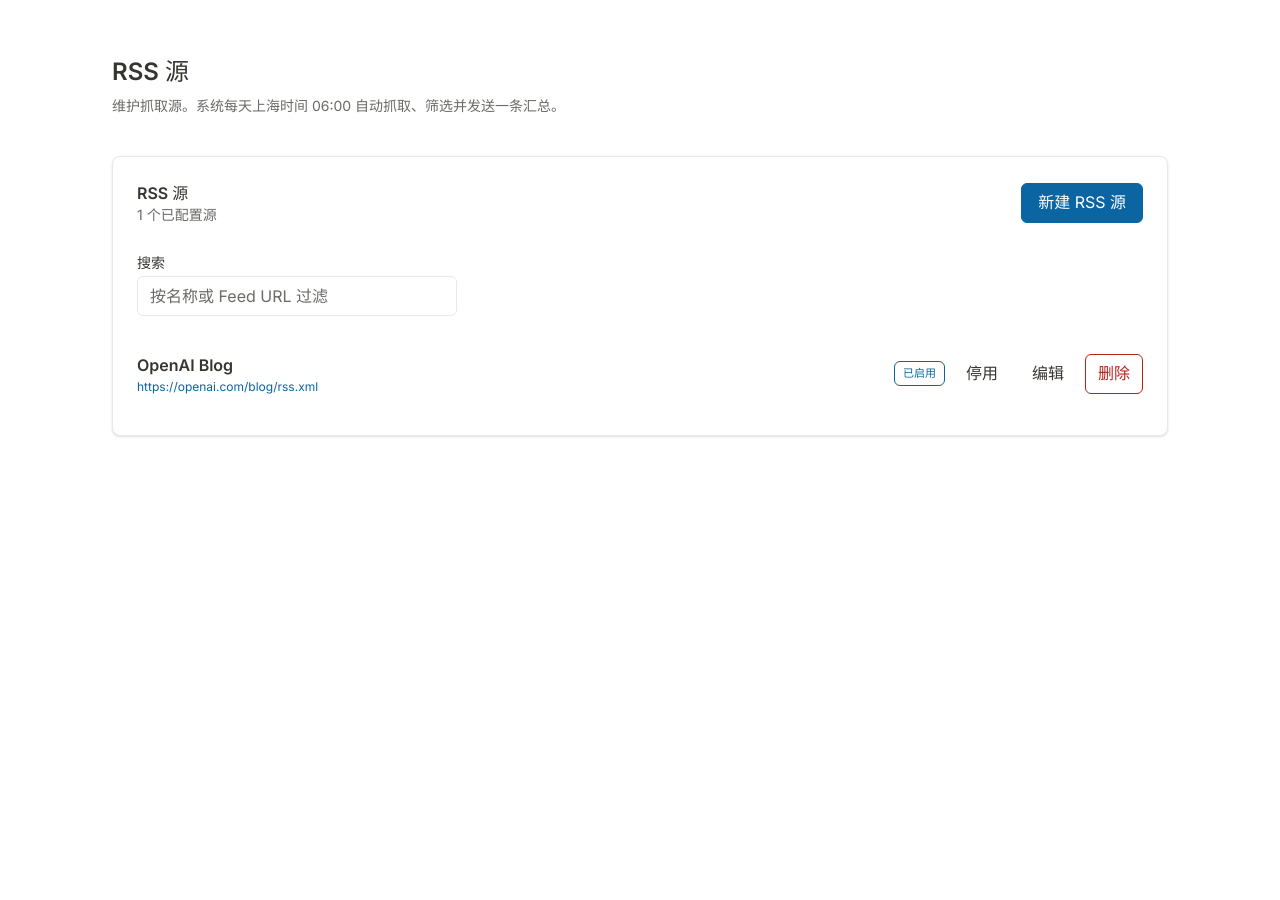
it: RssSourcesPage › edits an RSS source through the drawer
Click the button with aria-label "编辑 OpenAI Blog" at [1048, 374], box x1=1019 y1=354 x2=1077 y2=394
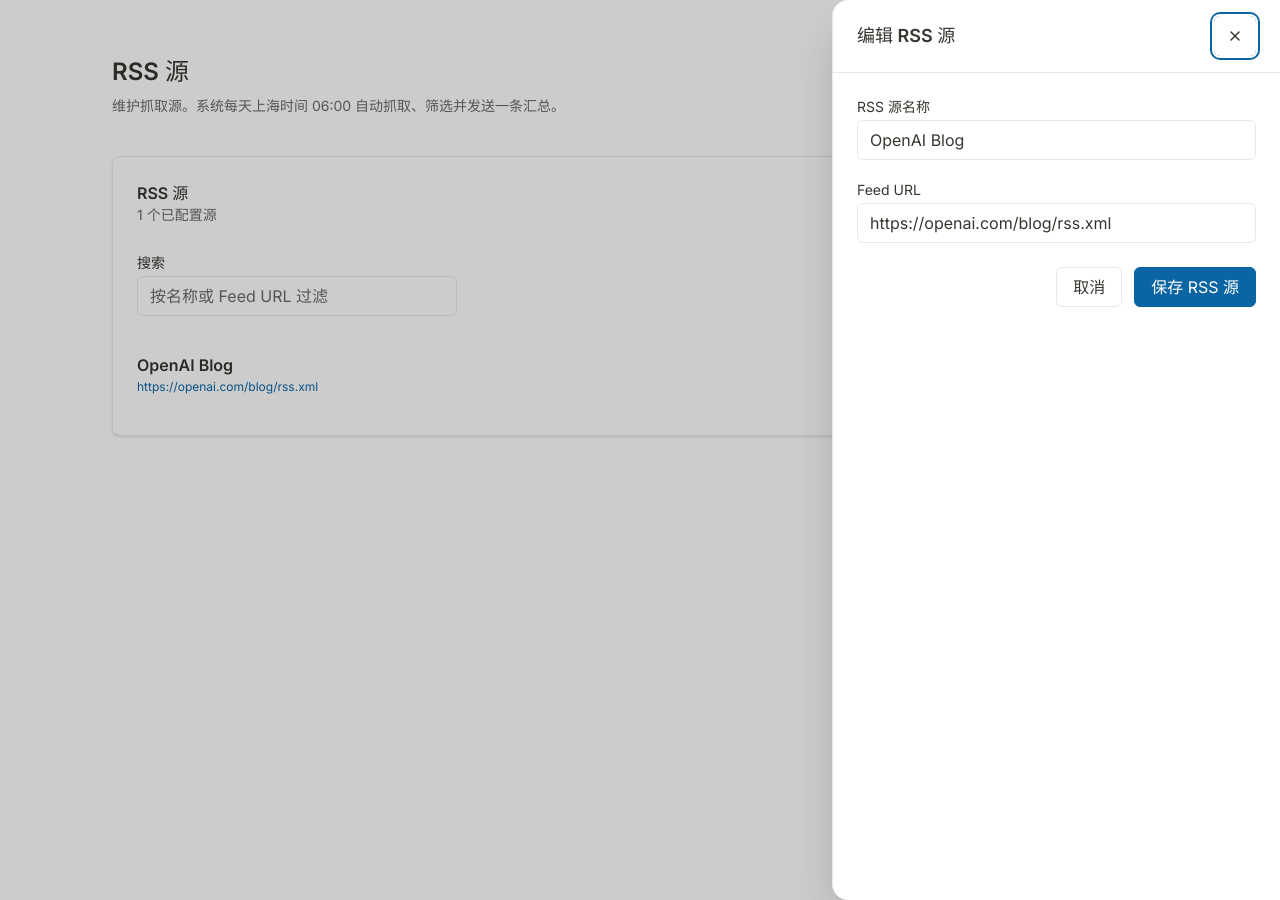
Now the field labelled "RSS 源名称" holds "OpenAI Blog"
Now the field labelled "Feed URL" holds "https://openai.com/blog/rss.xml", box x1=857 y1=203 x2=1256 y2=243
Replace the text in the field labelled "RSS 源名称" with "OpenAI News" at [1056, 140], box x1=857 y1=120 x2=1256 y2=160
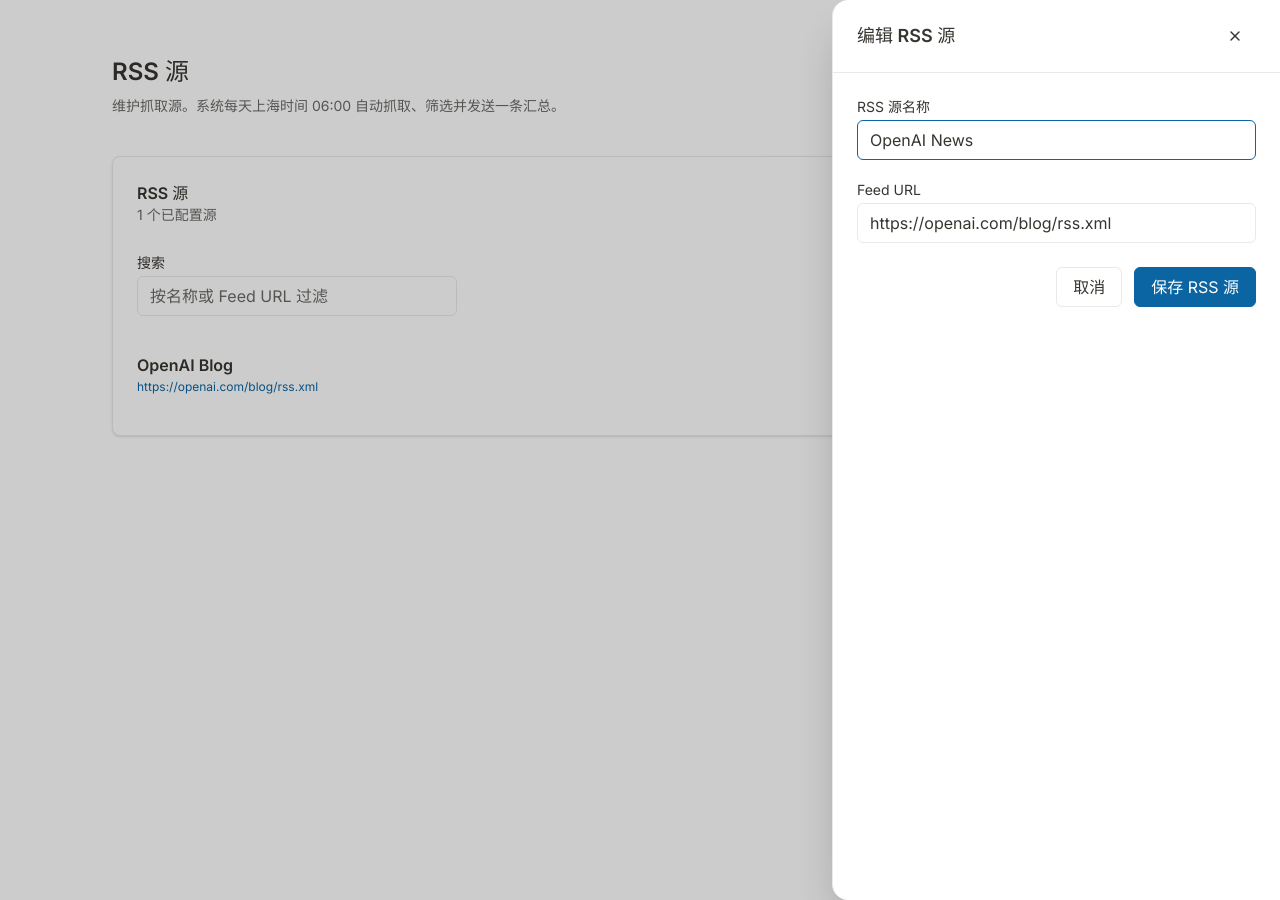
Click the button "保存 RSS 源" at [1195, 287], box x1=1134 y1=267 x2=1256 y2=307
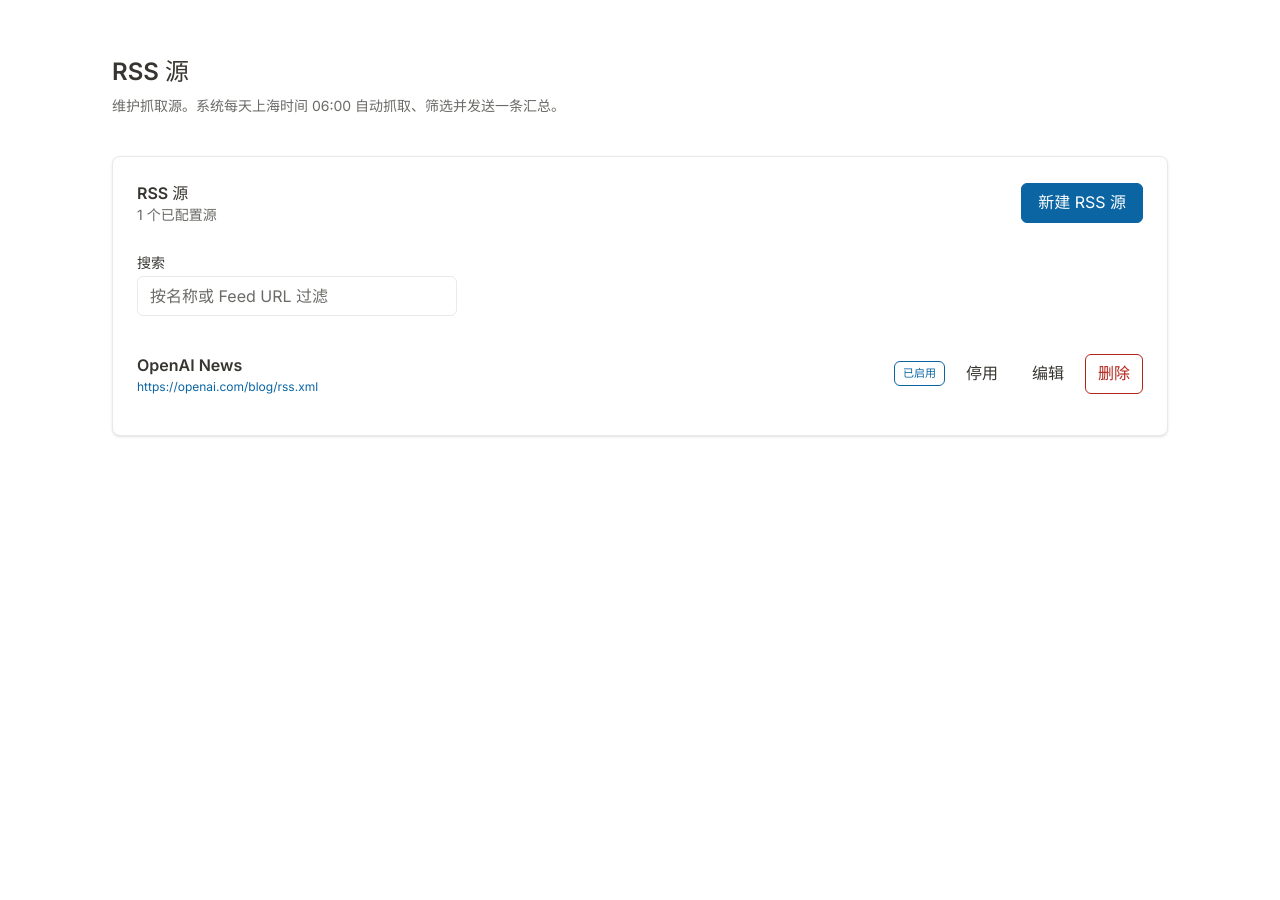
Now the text "OpenAI News" is shown, box x1=137 y1=355 x2=242 y2=375
Now the dialog is gone
